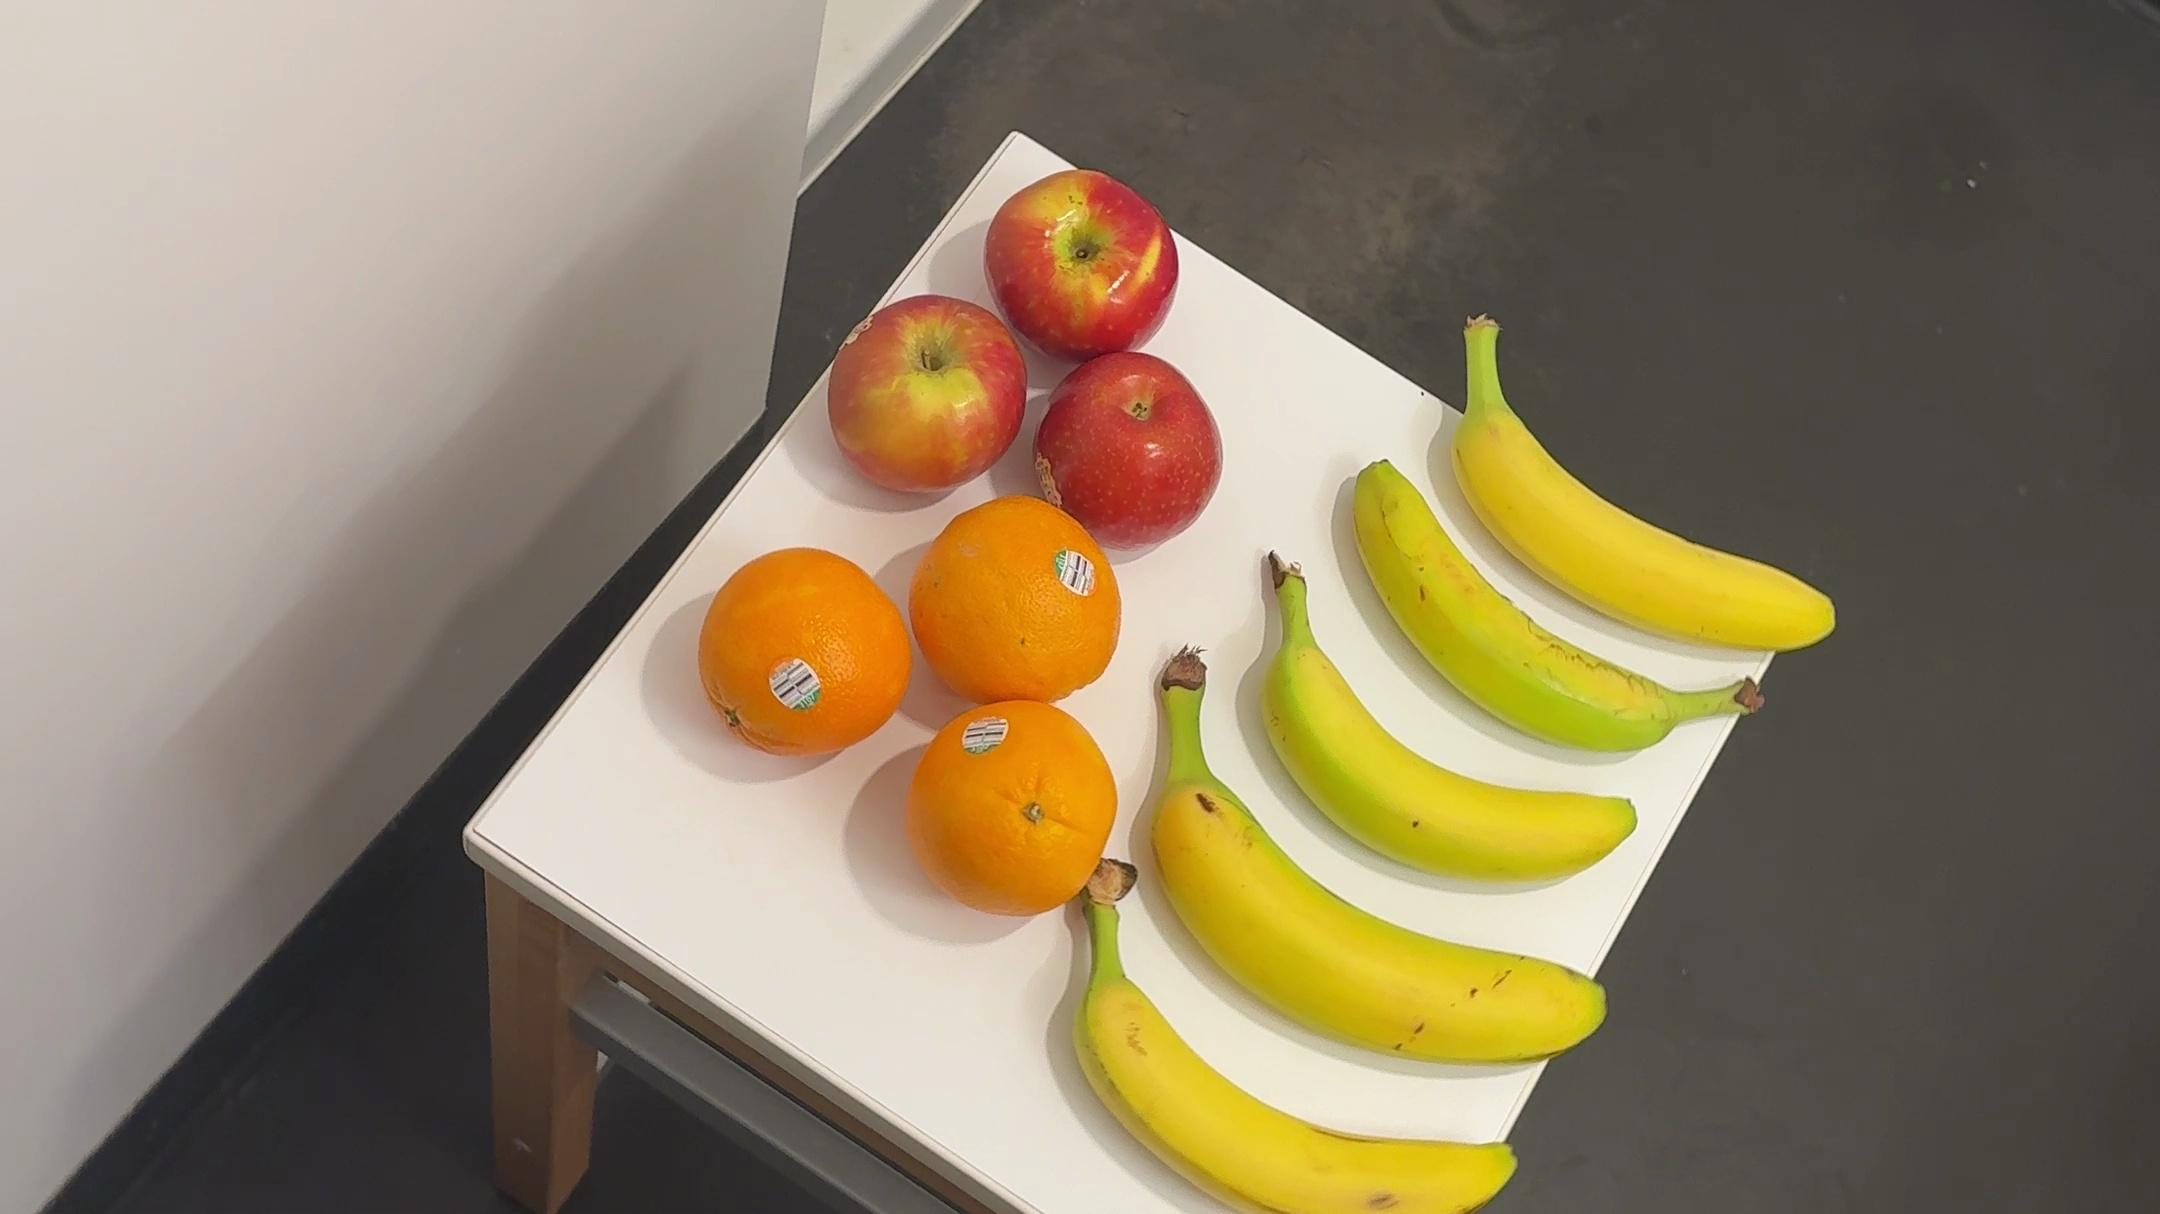apple: (985, 159, 1179, 364), (1033, 353, 1231, 545), (831, 298, 1016, 490)
banana: (1116, 652, 1617, 1074), (1055, 870, 1530, 1214), (1429, 309, 1845, 662), (1233, 551, 1638, 896), (1337, 465, 1768, 752)
orange: (702, 549, 911, 764), (903, 698, 1110, 916), (903, 505, 1129, 703)
